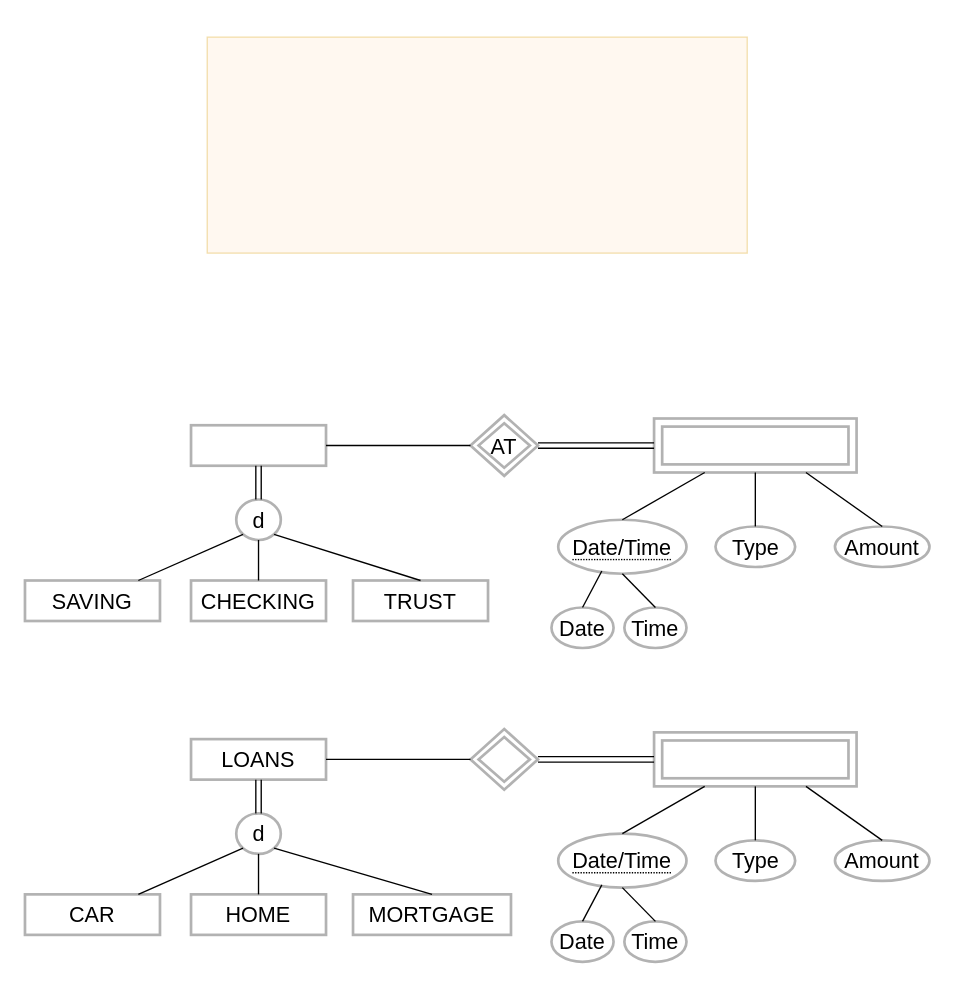
The diagram is 953 pixels wide and 987 high, and some of its shapes have lost their labels. The shapes that lost their labels are listed below. From the top down, each one's centre as x and y in pixels, then its label:
the point at 476,144: Database Assignment Name : Asma'u Lami Musa Reg No : KPT/ODFeL/CST/20/012
the point at 258,444: ACCOUNT
the point at 754,444: TRANSACTION
the point at 503,758: LP
the point at 754,758: PAYMENT
